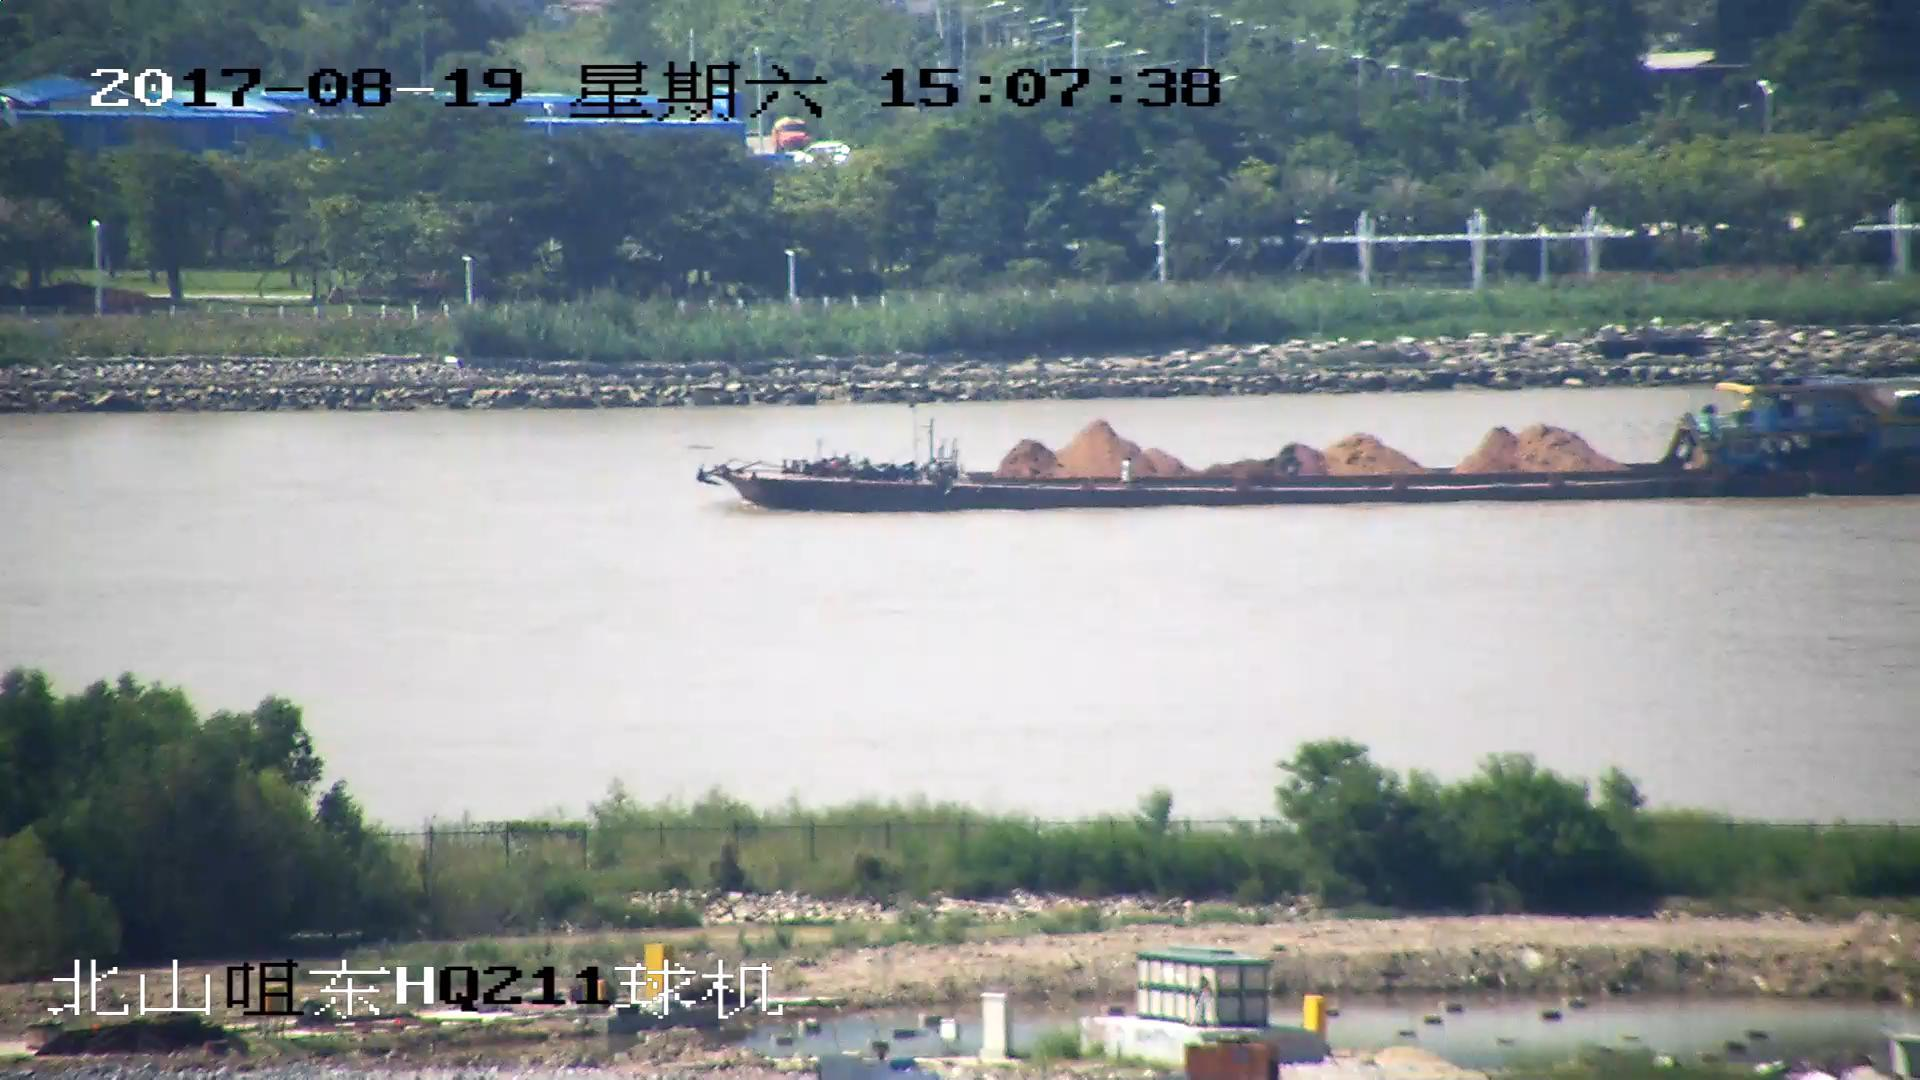Ship: (694, 378, 1920, 512)
